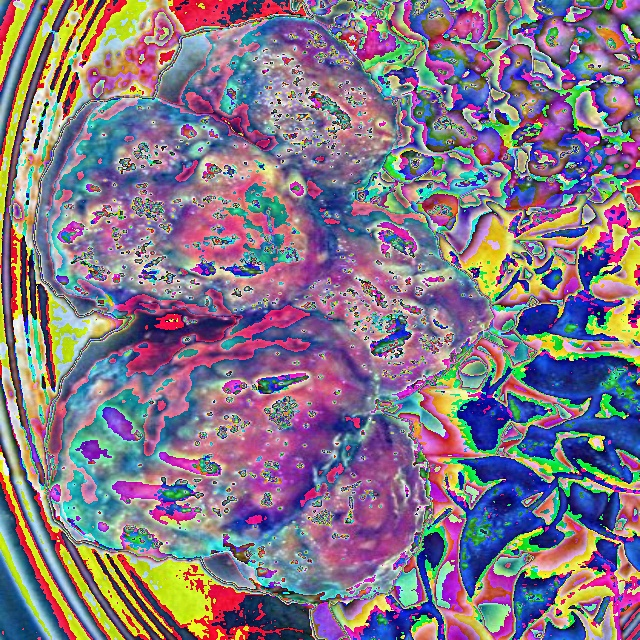background: (45, 0, 639, 640)
